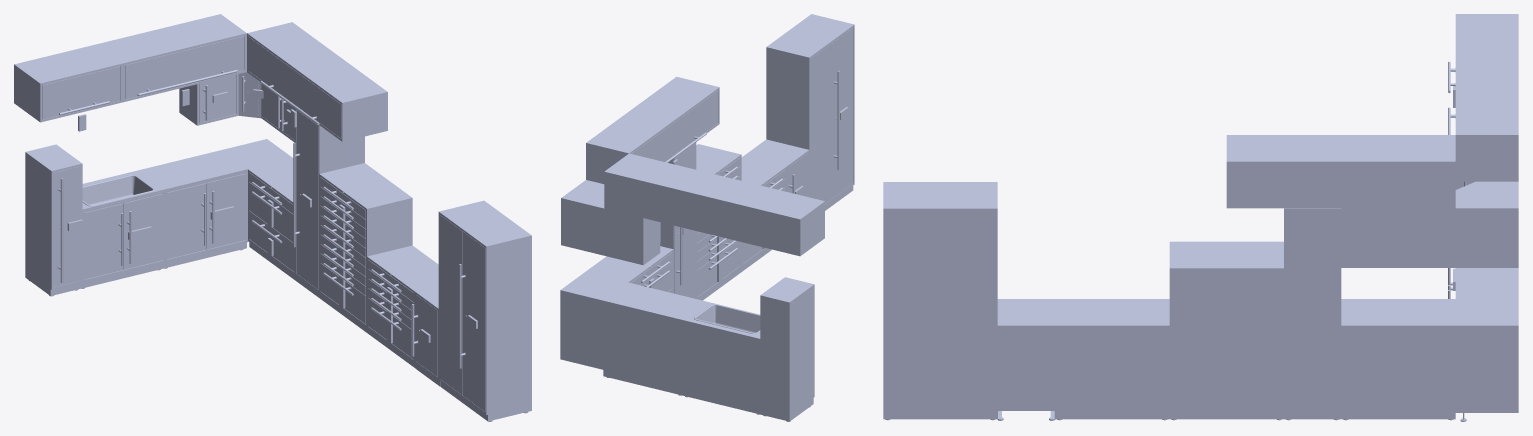
The model's file is Assembled for refrence.fbx.
3 views of the same model, side by side, from view 1: azimuth 30°, elevation 25°; view 2: azimuth 150°, elevation 25°; view 3: azimuth 270°, elevation 25° (orthographic). The views are drawn at different scales.
Parts seen in each view (by area): view 1: Body_1_22, Body_1_21, Body_1_16, Body_1, Body_1_9, Body_1_20, Body_1_29, Body_1_25, Body_1_27, Body_1_19, Body_2_6, Body_1_23 (+19 smaller); view 2: Body_1_9, Body_1_3, Body_1_20, Body_1, Body_1_22, Body_1_19, Body_1_21, Body_2_6, Body_1_27, Body_1_7, Body_1_6, Body_1_26 (+11 smaller); view 3: Body_1_22, Body_1_16, Body_1_21, Body_1_17, Body_1_31, Body_1_18, Body_1_9, Body_1_20, Body_1_32, Body_1_14, Body_1_7, Body_1_19.
Boxes of the visible parts, x1,y1,x2,y2 form: Body_1_22: (438,200,531,421); Body_1_21: (247,22,387,141); Body_1_16: (319,163,412,333); Body_1: (25,144,82,296); Body_1_9: (139,139,292,268); Body_1_20: (97,14,246,102); Body_1_29: (320,177,365,324); Body_1_25: (125,36,244,99); Body_1_27: (462,231,485,411); Body_1_19: (14,44,122,122); Body_2_6: (440,215,462,394); Body_1_23: (297,110,318,289); Body_1_9: (560,272,706,395); Body_1_3: (682,301,760,414); Body_1_20: (604,153,746,237); Body_1: (760,277,814,421); Body_1_22: (766,14,854,210); Body_1_19: (722,182,824,256); Body_1_21: (586,76,719,183); Body_2_6: (810,43,831,203); Body_1_27: (832,28,853,198); Body_1_7: (561,180,604,255); Body_1_6: (604,208,660,265); Body_1_26: (631,90,718,161); Body_1_22: (883,182,997,420); Body_1_16: (1169,241,1283,420); Body_1_21: (1226,135,1455,208); Body_1_17: (1055,299,1169,420); Body_1_31: (1341,299,1455,420); Body_1_18: (1284,208,1341,420); Body_1_9: (1455,268,1518,421); Body_1_20: (1455,62,1518,181); Body_1_32: (1341,208,1455,267); Body_1_14: (997,299,1055,420); Body_1_7: (1455,181,1518,267); Body_1_19: (1455,14,1518,62).
Bounding box in the file's own units: 3.11 × 5.64 × 2.56.
